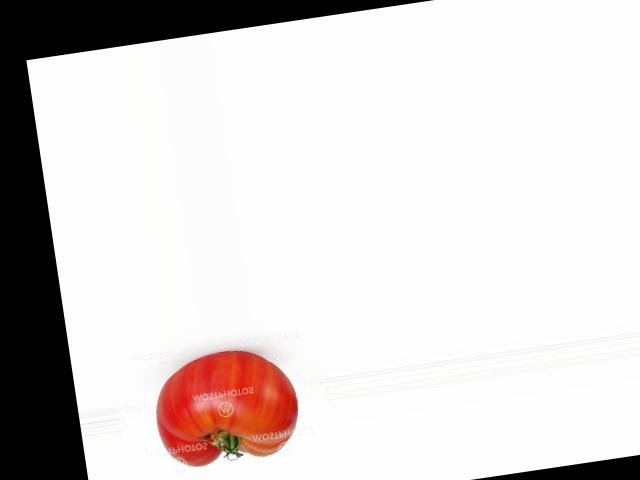tomato: (149, 342, 305, 471)
